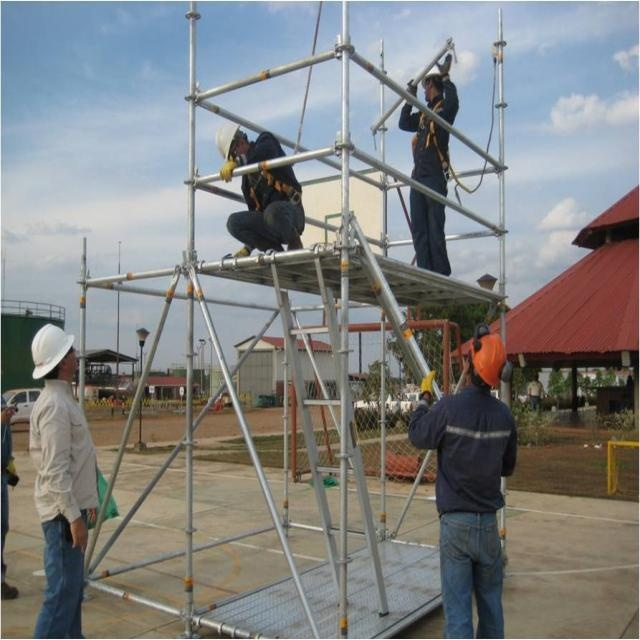Arnes_seguridad: (236, 146, 301, 211), (415, 99, 447, 174)
